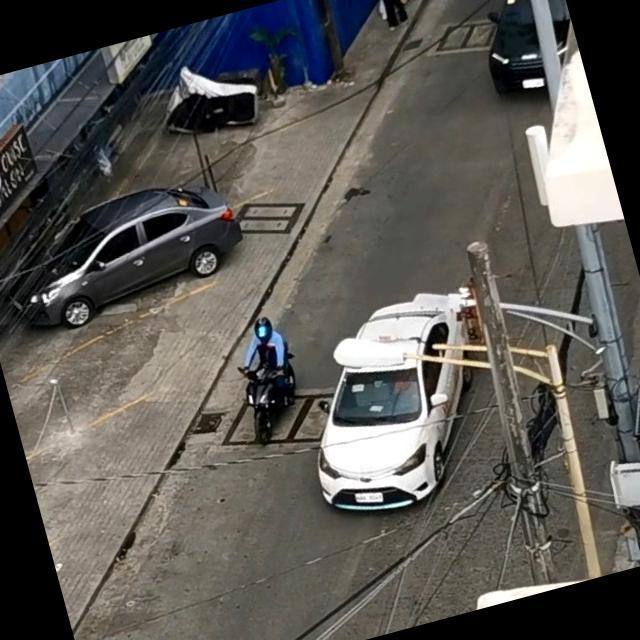Car: (262, 260, 541, 550), (0, 153, 272, 367), (432, 0, 590, 123)
